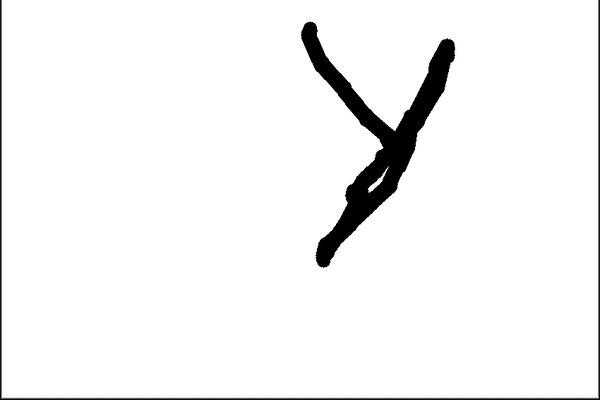Y: (287, 14, 462, 279)
